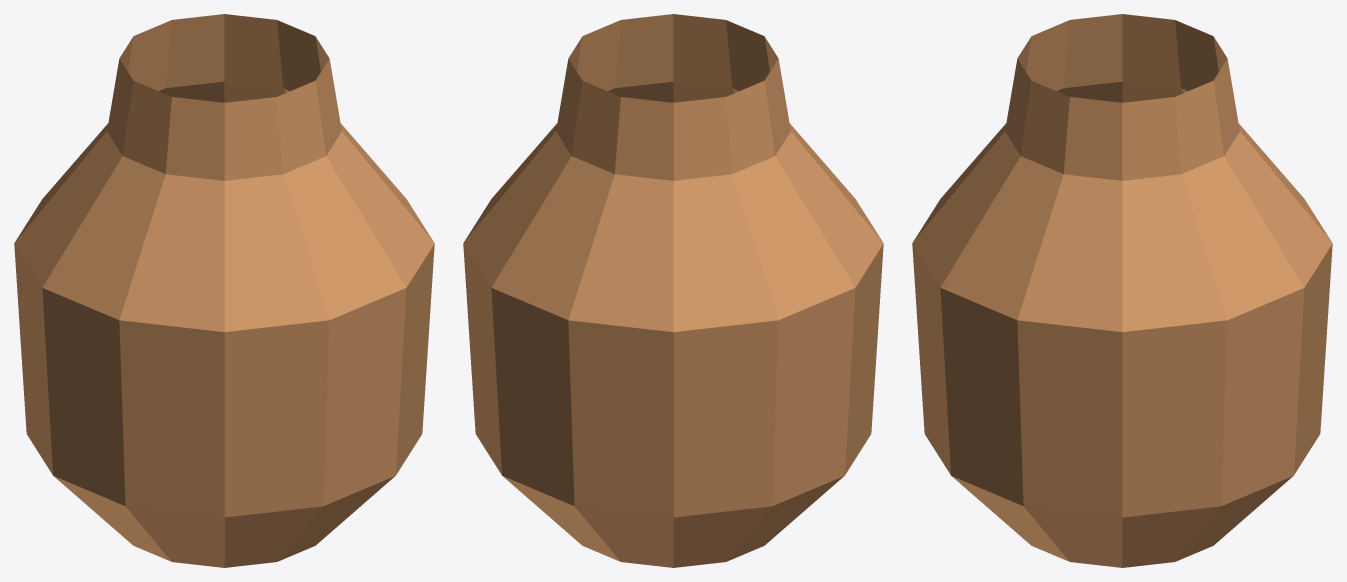
File: urn.glb
3 views of the same model, side by side, from view 1: azimuth 30°, elevation 25°; view 2: azimuth 150°, elevation 25°; view 3: azimuth 270°, elevation 25° (orthographic).
Visible parts, largest first — view 1: urn; view 2: urn; view 3: urn.
Part boxes in pixels (x1,y1,x2,y2): urn: (14, 14, 434, 567); urn: (463, 14, 883, 567); urn: (912, 14, 1332, 567).
Size of the model in its own units: 0.68 by 0.83 by 0.68.
